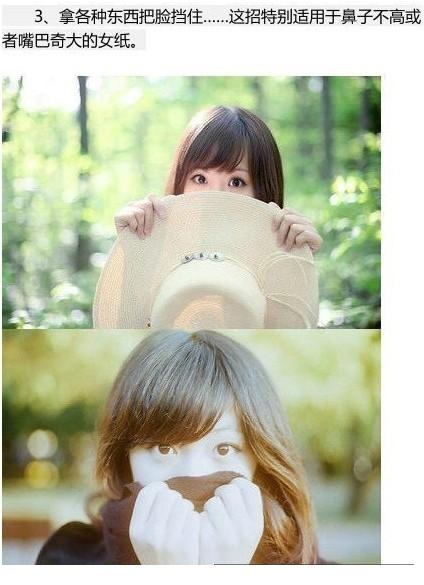face: (127, 425, 249, 523), (180, 133, 260, 258)
